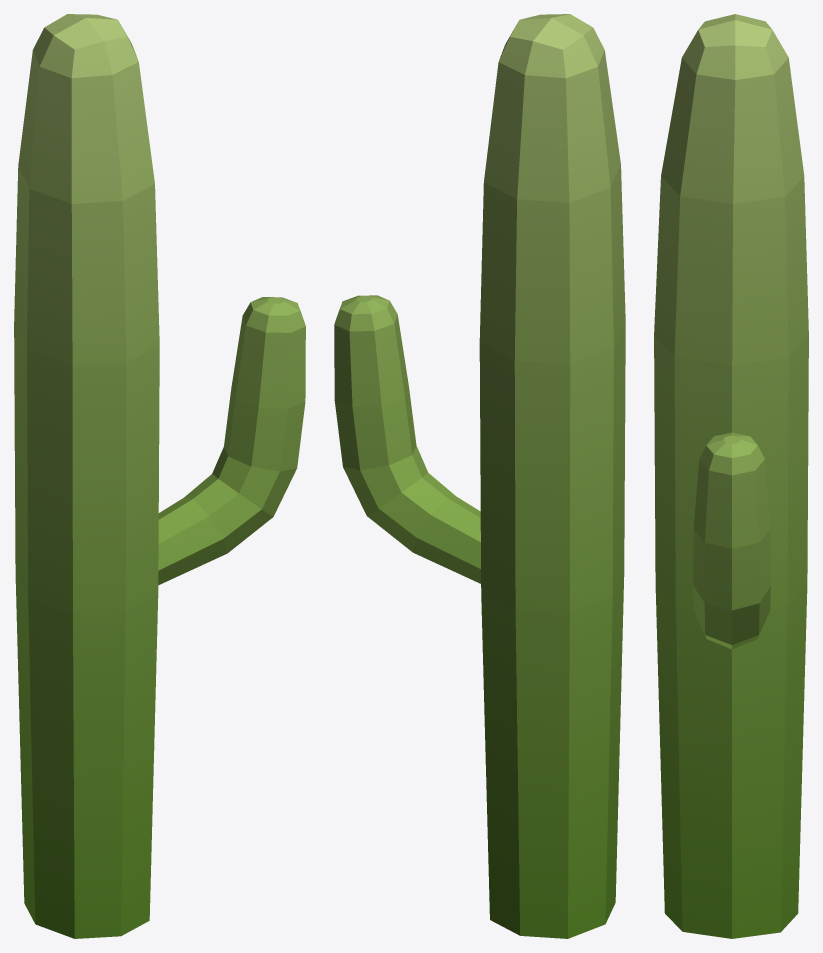
Rendered from cactus 2.fbx.
The picture shows the model from 3 angles, left to right: view 1: azimuth 30°, elevation 25°; view 2: azimuth 150°, elevation 25°; view 3: azimuth 270°, elevation 25°; orthographic projection.
Parts seen in each view (by area): view 1: cactus 2; view 2: cactus 2; view 3: cactus 2.
Part boxes in pixels (box(x1,y1,x2,y2)): cactus 2: box(14, 14, 305, 938); cactus 2: box(334, 14, 625, 938); cactus 2: box(654, 14, 808, 938).
Bounding box in the file's own units: 79.3 × 245 × 38.56.
